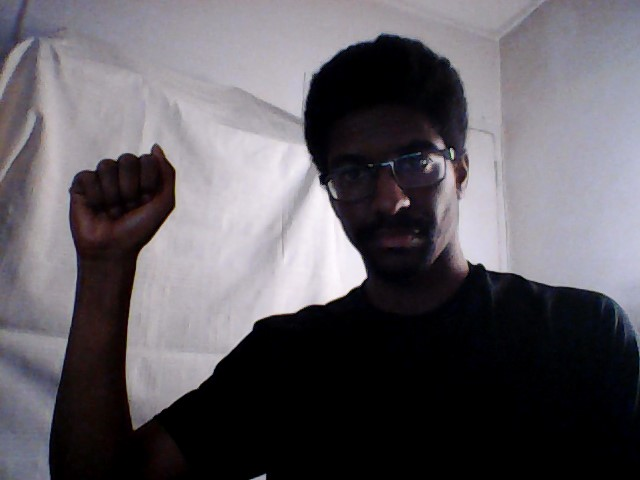a: (62, 140, 183, 255)
